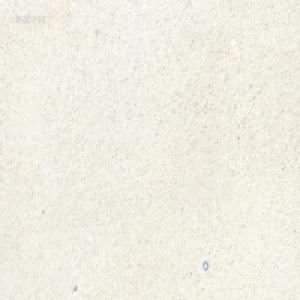Washer: (202, 259, 208, 270)
